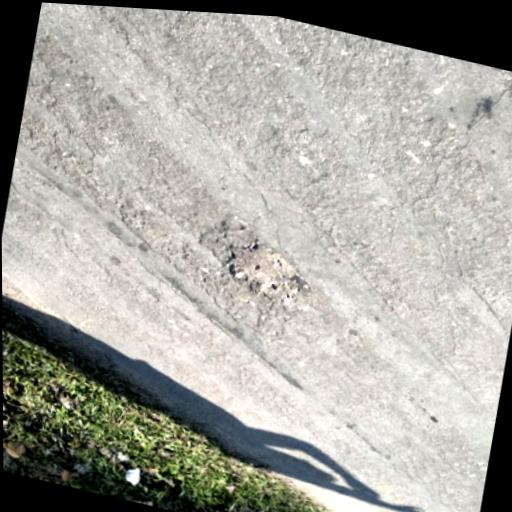pothole: (219, 234, 307, 308)
